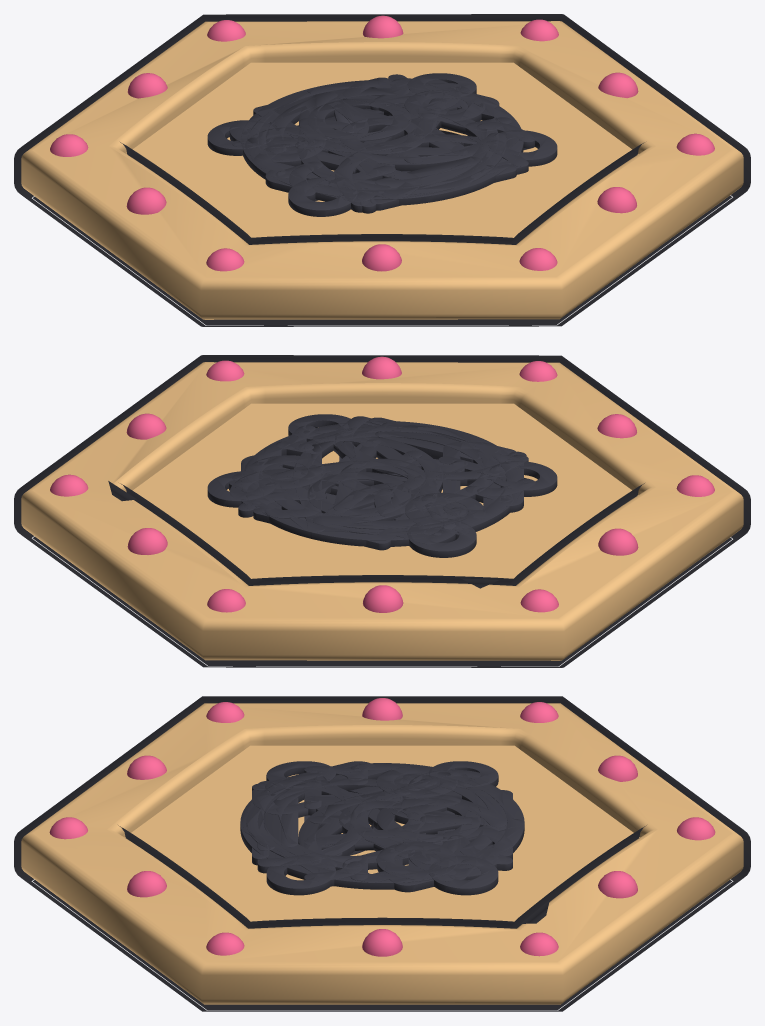
File: hex.glb
3 views of the same model, one above another, from view 1: azimuth 30°, elevation 25°; view 2: azimuth 150°, elevation 25°; view 3: azimuth 270°, elevation 25° (orthographic).
Visible parts, largest first — view 1: body, outline, stones, mark_plan_uses, mark_buddies, mark_perfect_cycles, mark_night_owl, mark_workouts, mark_records, mark_cycles, mark_streak, mark_volume (+1 smaller); view 2: body, outline, stones, mark_plan_uses, mark_perfect_cycles, mark_buddies, mark_night_owl, mark_records, mark_workouts, mark_cycles, mark_streak, mark_volume (+1 smaller); view 3: body, outline, stones, mark_plan_uses, mark_perfect_cycles, mark_buddies, mark_night_owl, mark_workouts, mark_records, mark_streak, mark_cycles, mark_volume (+1 smaller).
Boxes of the visible parts, box(x1,y1,x2,y2) form: body: box(21, 21, 743, 319); outline: box(14, 14, 750, 326); stones: box(50, 15, 714, 271); mark_plan_uses: box(207, 73, 557, 216); mark_buddies: box(245, 90, 535, 212); mark_perfect_cycles: box(241, 80, 523, 205); mark_night_owl: box(247, 76, 506, 198); mark_workouts: box(253, 78, 511, 201); mark_records: box(229, 77, 516, 210); mark_cycles: box(266, 74, 498, 213); mark_streak: box(297, 87, 500, 194); mark_volume: box(232, 86, 528, 212); body: box(21, 362, 743, 660); outline: box(14, 355, 750, 667); stones: box(50, 356, 714, 612); mark_plan_uses: box(207, 414, 557, 557); mark_perfect_cycles: box(241, 421, 523, 546); mark_buddies: box(245, 416, 535, 529); mark_night_owl: box(229, 425, 523, 534); mark_records: box(229, 417, 516, 550); mark_workouts: box(241, 441, 523, 518); mark_cycles: box(238, 430, 526, 529); mark_streak: box(293, 425, 500, 538); mark_volume: box(232, 417, 528, 539); body: box(21, 703, 743, 1004); outline: box(14, 696, 750, 1011); stones: box(49, 698, 715, 956); mark_plan_uses: box(266, 761, 498, 895); mark_perfect_cycles: box(240, 763, 524, 889); mark_buddies: box(258, 766, 480, 886); mark_night_owl: box(246, 763, 506, 880); mark_workouts: box(252, 761, 512, 892); mark_records: box(252, 769, 512, 880); mark_streak: box(246, 778, 524, 869); mark_cycles: box(252, 774, 512, 870); mark_volume: box(257, 766, 454, 881).
Bounding box in the file's own units: 1.05 × 0.1198 × 1.21.
